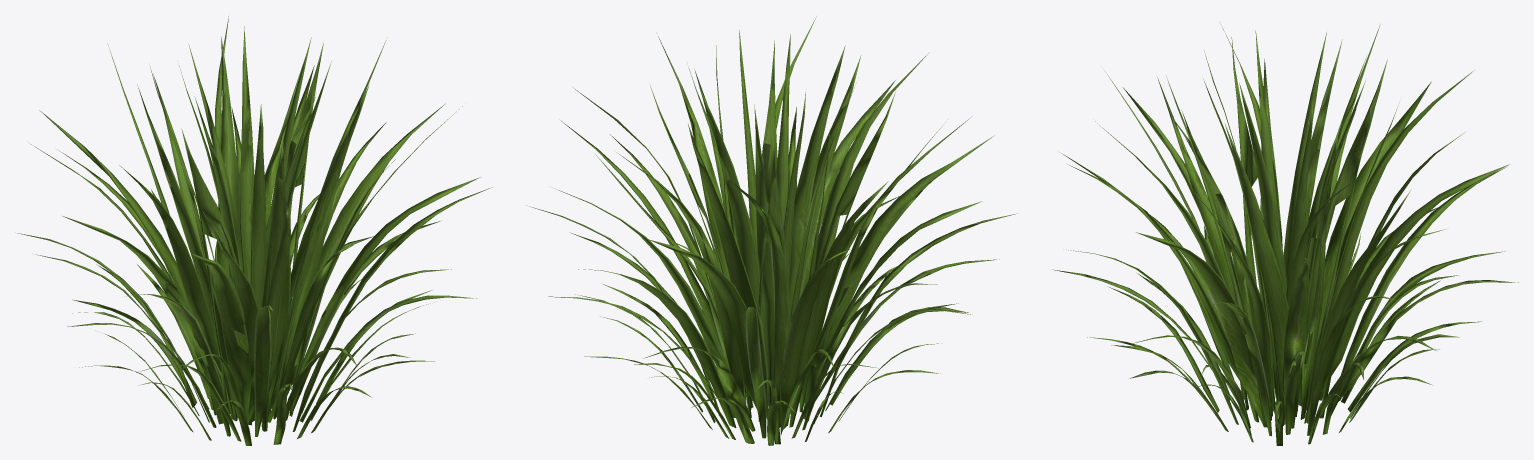
3 views of the same model, side by side, from view 1: azimuth 30°, elevation 25°; view 2: azimuth 150°, elevation 25°; view 3: azimuth 270°, elevation 25° (orthographic).
Visible parts, largest first — view 1: tripo_node_1256db26-5b57-450d-885b-2f3a3e8def24; view 2: tripo_node_1256db26-5b57-450d-885b-2f3a3e8def24; view 3: tripo_node_1256db26-5b57-450d-885b-2f3a3e8def24.
Boxes of the visible parts, x1,y1,x2,y2 form: tripo_node_1256db26-5b57-450d-885b-2f3a3e8def24: (17,16,492,445); tripo_node_1256db26-5b57-450d-885b-2f3a3e8def24: (530,16,1016,445); tripo_node_1256db26-5b57-450d-885b-2f3a3e8def24: (1052,24,1518,445).
Size of the model in its own units: 0.998 by 0.8496 by 0.998.
1 material, 1 textured.
